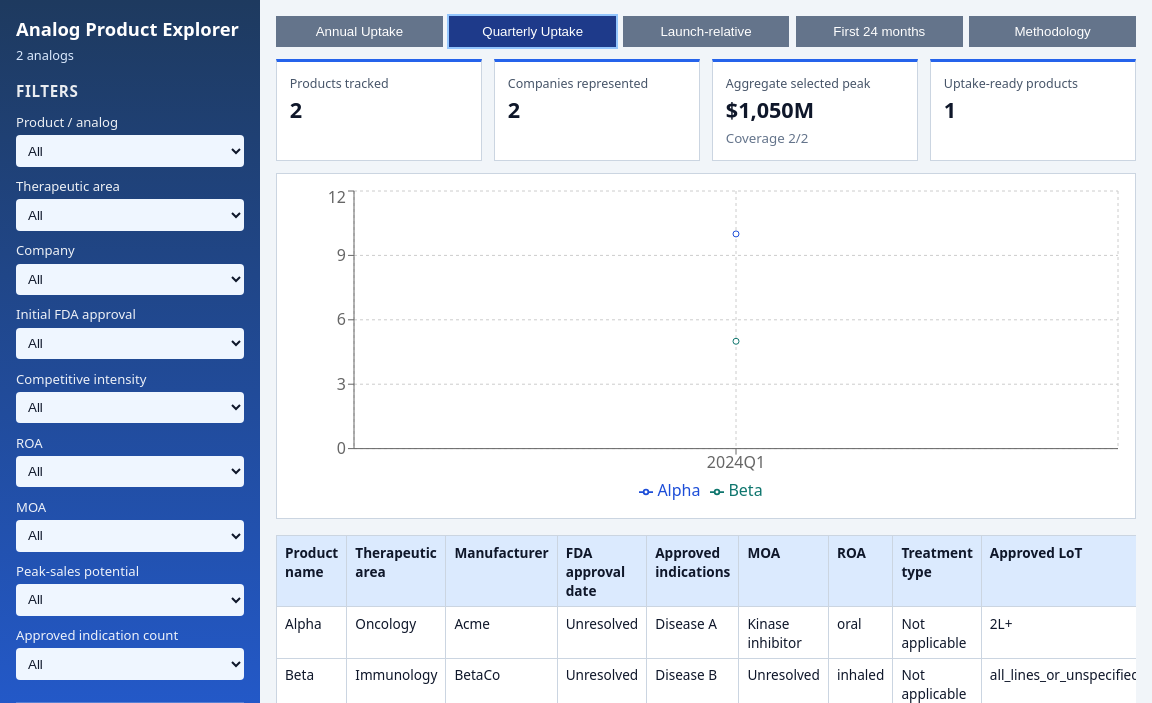
Scenario: DashboardPage › says a tab has no series instead of drawing an empty chart with a full legend
Expected: the cell "Alpha" is shown, [276,607,347,658]
Click the button "Launch-relative".
click(706, 32)  # box [623,16,790,47]
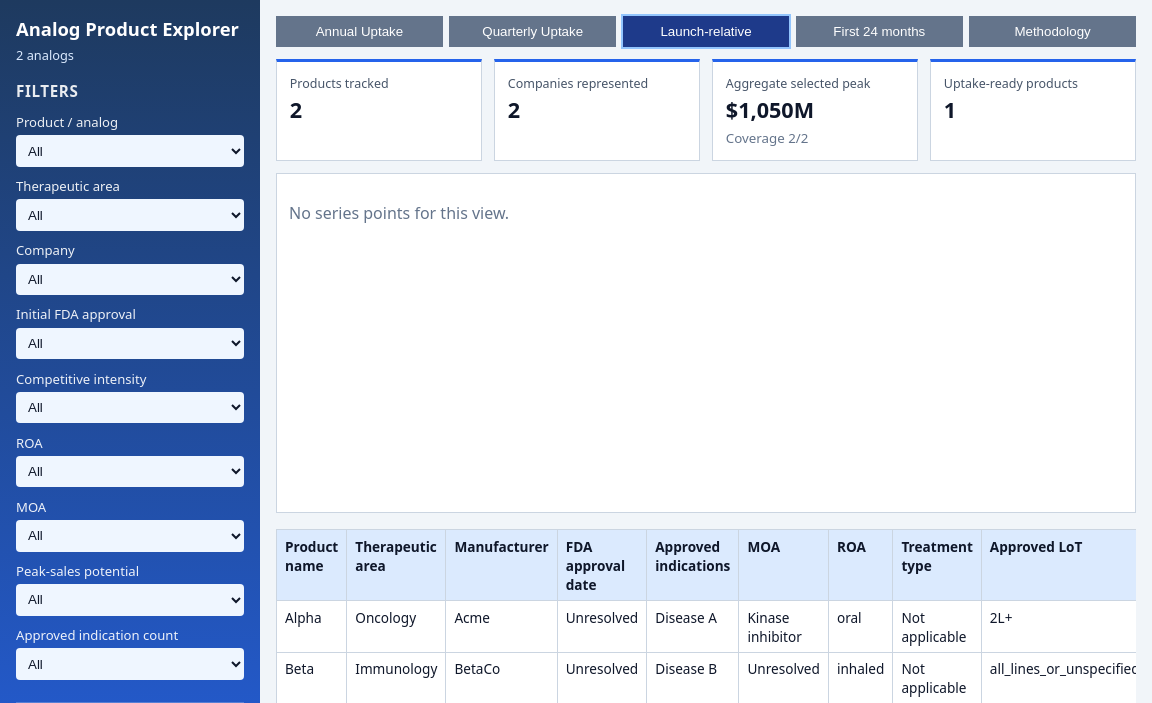
Expected: the text "No series points for this view." is shown, [289,202,509,224]
Click the button "Quarterly Uptake".
click(533, 32)  # box [449,16,616,47]
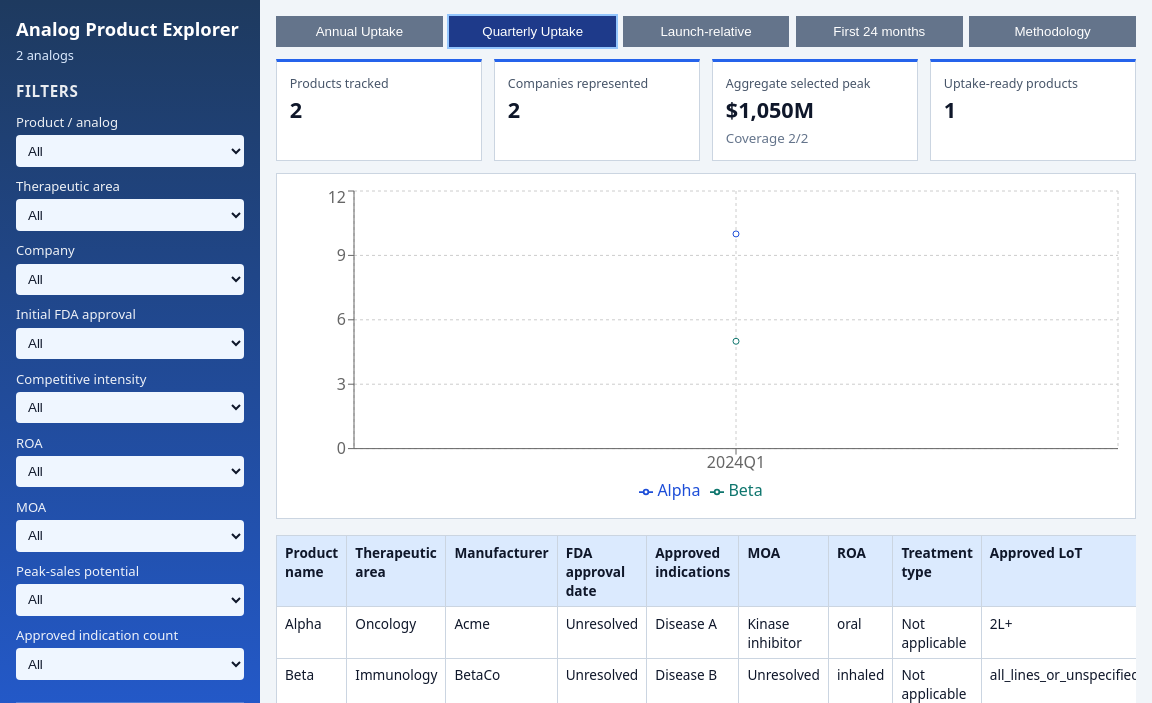
Expected: the text "No series points for this view." is gone
